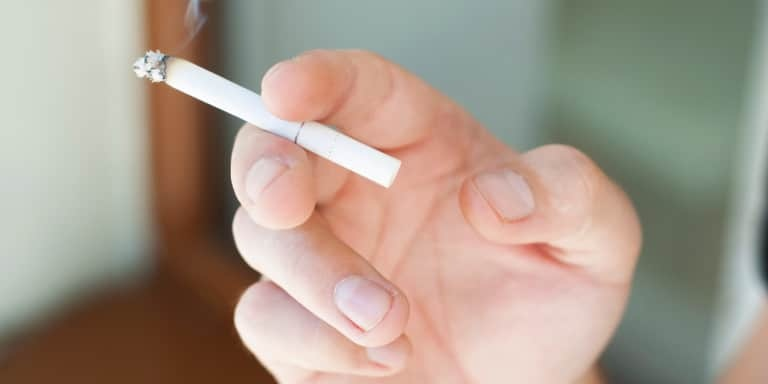sigaretta: (120, 40, 407, 194)
